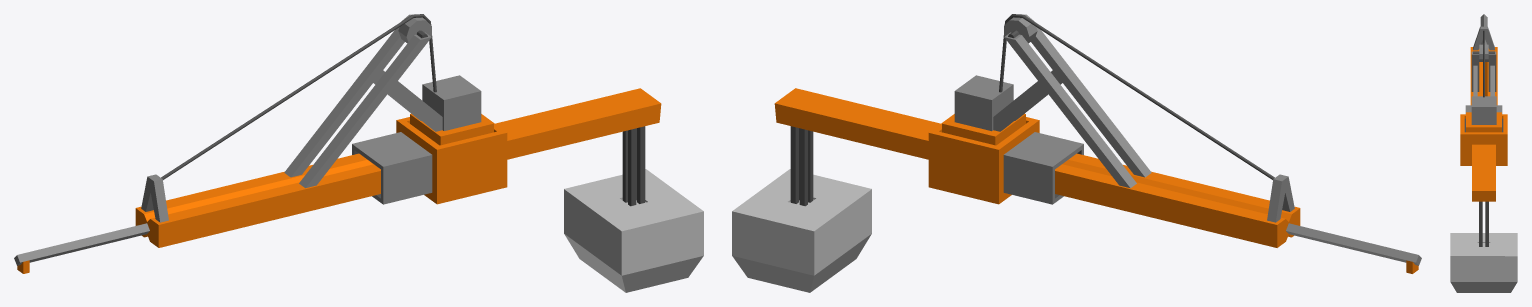
The model's file is Prop_Industrial_Crane_Assembly_01.FBX.
3 views of the same model, side by side, from view 1: azimuth 30°, elevation 25°; view 2: azimuth 150°, elevation 25°; view 3: azimuth 270°, elevation 25° (orthographic). The views are drawn at different scales.
Visible parts, largest first — view 1: Prop_Industrial_Crane_Assembly_01; view 2: Prop_Industrial_Crane_Assembly_01; view 3: Prop_Industrial_Crane_Assembly_01.
Part boxes in pixels (x1,y1,x2,y2): Prop_Industrial_Crane_Assembly_01: (14,14,703,292); Prop_Industrial_Crane_Assembly_01: (732,14,1421,292); Prop_Industrial_Crane_Assembly_01: (1450,14,1517,292).
Size of the model in its own units: 58476 by 26826 by 8920.
